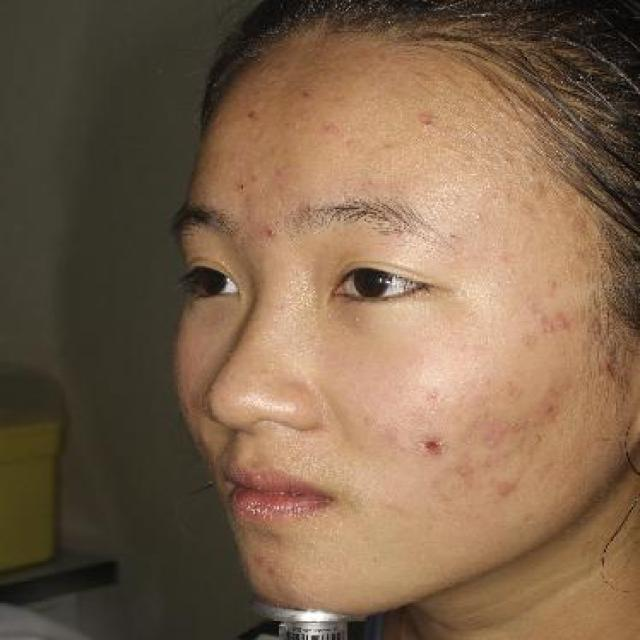blackheads: (412, 111, 442, 132), (291, 86, 316, 106), (270, 163, 292, 180), (442, 229, 466, 243), (246, 172, 267, 186), (234, 180, 252, 192)
dark spot: (406, 424, 454, 462)
